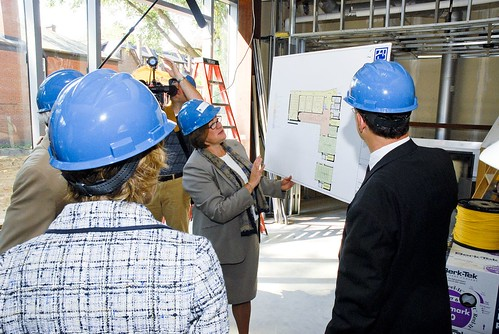person hardhat: (47, 68, 178, 201), (343, 61, 419, 146), (177, 98, 227, 145)
